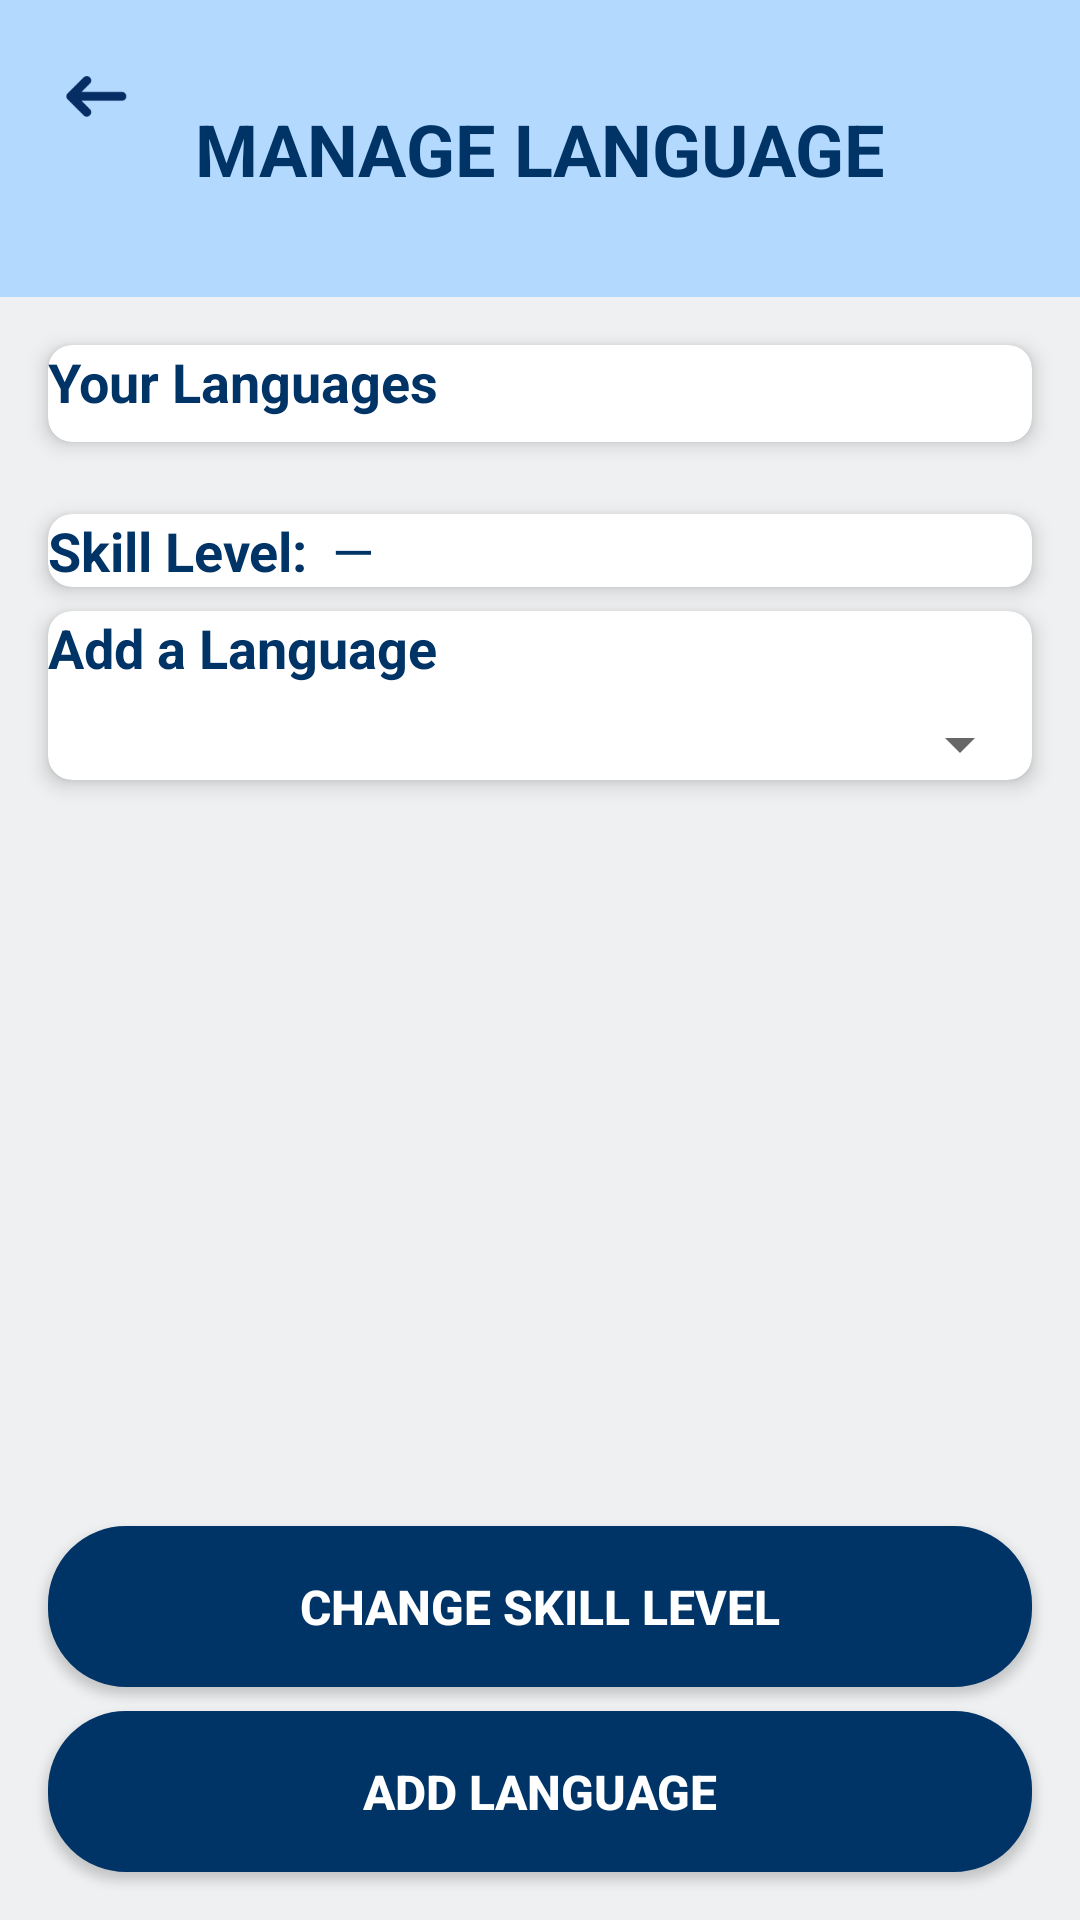

Where to tap for icons on this 1080*1920 app screen, as (x,y):
Back: (96,96)
